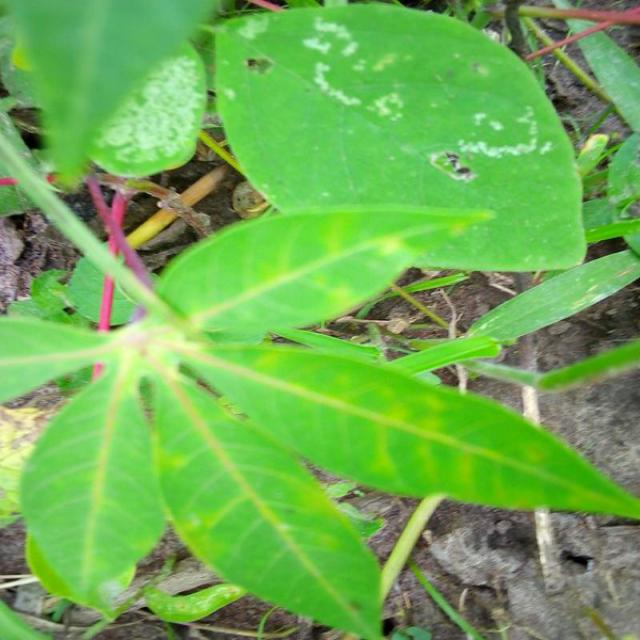cassava leaf: (4, 2, 638, 636), (213, 1, 588, 274), (19, 350, 167, 621)
